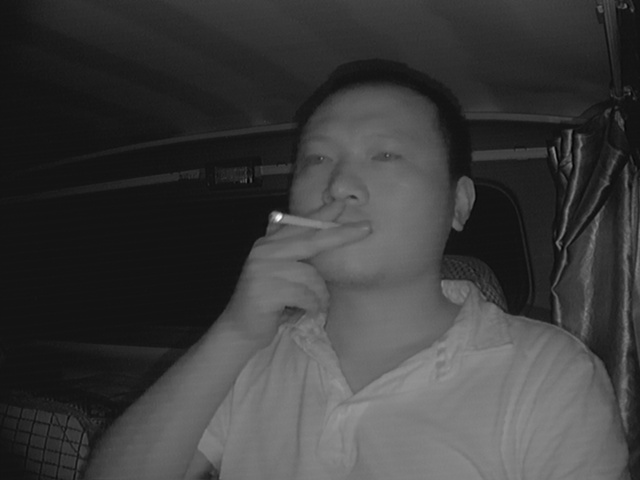hand: (236, 199, 373, 342)
